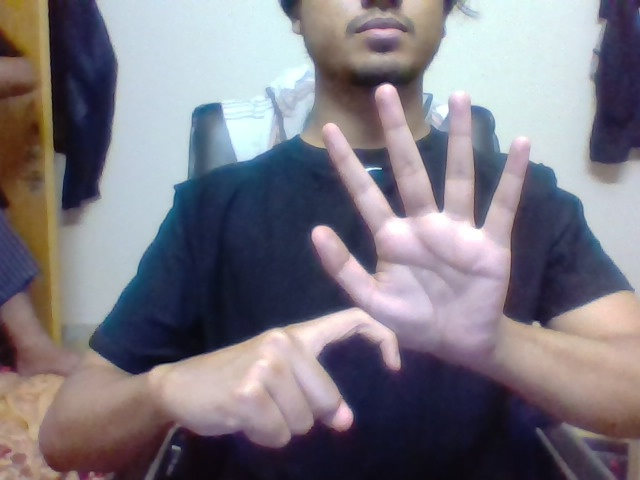R: (283, 295, 403, 432)
